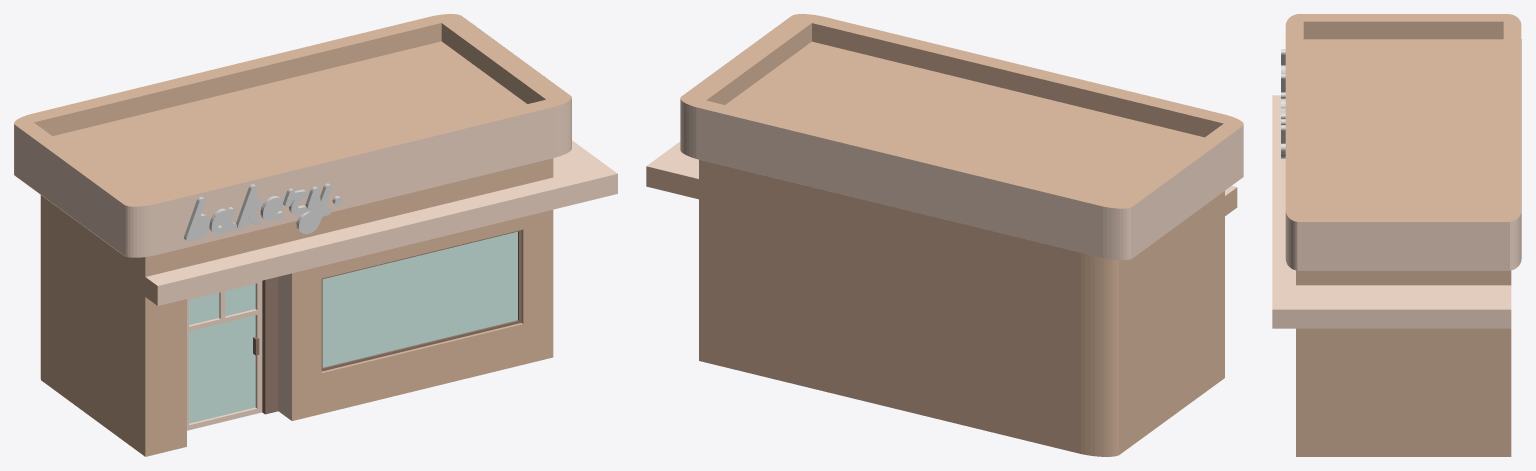
The model's file is bakery1.fbx.
3 renders of one model, left to right at view 1: azimuth 30°, elevation 25°; view 2: azimuth 150°, elevation 25°; view 3: azimuth 270°, elevation 25°, orthographic. The views are drawn at different scales.
Parts seen in each view (by area): view 1: bakery; view 2: bakery; view 3: bakery.
Boxes of the visible parts, x1,y1,x2,y2 form: bakery: (14, 14, 617, 456); bakery: (646, 14, 1243, 456); bakery: (1272, 14, 1521, 456).
Bounding box in the file's own units: 756 × 385 × 357.
